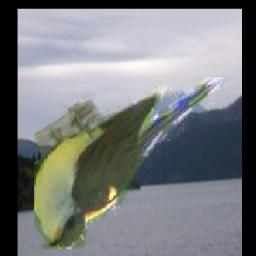Cuckoo: (33, 77, 227, 249)
